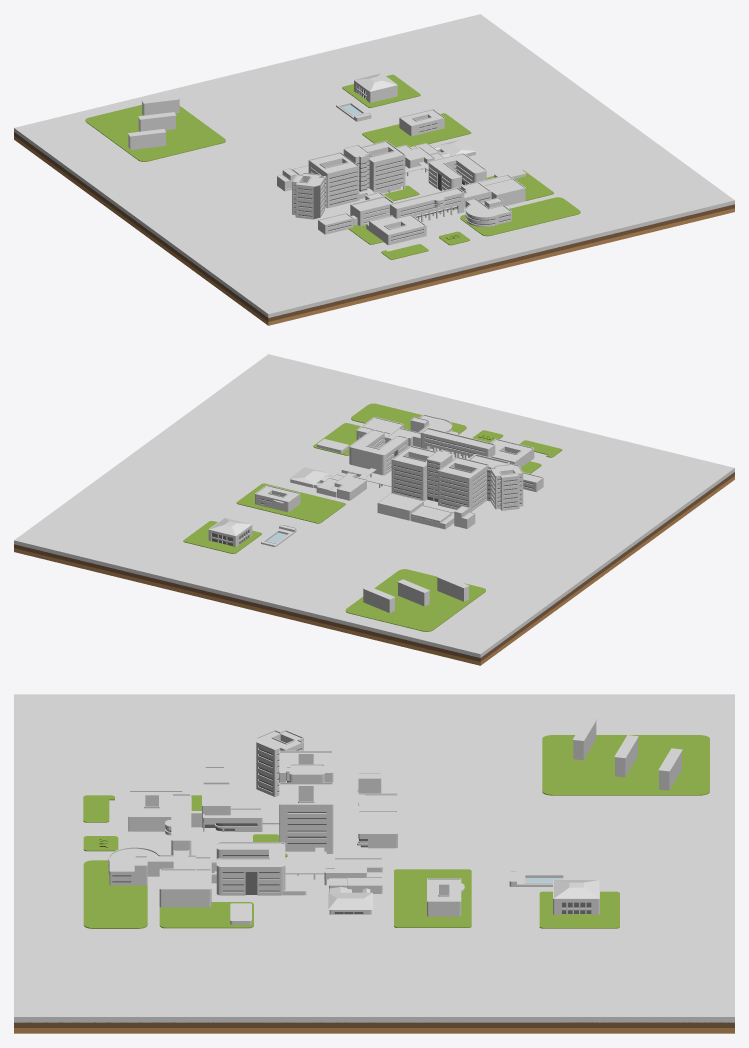
Rendered from kyutech_map.glb.
The picture shows the model from 3 angles, top to bottom: view 1: azimuth 30°, elevation 25°; view 2: azimuth 150°, elevation 25°; view 3: azimuth 270°, elevation 25°; orthographic projection. The views are drawn at different scales.
Visible parts, largest first — view 1: 地面上, 平面.013, 地面下, 地面中, 立方体.033, 平面.011, 立方体.081, 立方体.008, 平面.016, 立方体.035, 立方体.005, 立方体.004 (+13 smaller); view 2: 地面上, 平面.013, 地面下, 地面中, 立方体.033, 立方体.081, 立方体.008, 平面.016, 立方体.035, 立方体.005, 平面.011, 立方体.043 (+13 smaller); view 3: 地面上, 平面.013, 地面中, 地面下, 立方体.008, 立方体.081, 平面.011, 平面.016, 立方体.007, 円, 平面.018, 立方体.035 (+21 smaller).
Part boxes in pixels (bbox=[...]): 地面上: bbox=[14, 14, 734, 317]; 平面.013: bbox=[85, 104, 225, 161]; 地面下: bbox=[14, 136, 734, 325]; 地面中: bbox=[14, 132, 734, 321]; 立方体.033: bbox=[308, 152, 359, 208]; 平面.011: bbox=[460, 197, 580, 236]; 立方体.081: bbox=[361, 140, 405, 193]; 立方体.008: bbox=[428, 153, 486, 190]; 平面.016: bbox=[362, 113, 471, 147]; 立方体.035: bbox=[292, 172, 324, 219]; 立方体.005: bbox=[390, 187, 464, 218]; 立方体.004: bbox=[366, 214, 426, 245]; 地面上: bbox=[14, 354, 734, 657]; 平面.013: bbox=[345, 569, 485, 631]; 地面下: bbox=[14, 476, 734, 665]; 地面中: bbox=[14, 472, 734, 661]; 立方体.033: bbox=[438, 457, 488, 512]; 立方体.081: bbox=[391, 445, 435, 501]; 立方体.008: bbox=[349, 429, 407, 475]; 平面.016: bbox=[236, 483, 345, 523]; 立方体.035: bbox=[491, 463, 523, 510]; 立方体.005: bbox=[420, 427, 495, 457]; 平面.011: bbox=[351, 403, 466, 434]; 立方体.043: bbox=[255, 485, 300, 512]; 地面上: bbox=[14, 694, 734, 1022]; 平面.013: bbox=[542, 735, 709, 795]; 地面中: bbox=[14, 1022, 734, 1027]; 地面下: bbox=[14, 1028, 734, 1033]; 立方体.008: bbox=[216, 842, 285, 895]; 立方体.081: bbox=[279, 782, 333, 853]; 平面.011: bbox=[83, 860, 147, 928]; 平面.016: bbox=[394, 869, 471, 927]; 立方体.007: bbox=[159, 868, 211, 907]; 円: bbox=[108, 847, 173, 885]; 平面.018: bbox=[539, 891, 619, 928]; 立方体.035: bbox=[256, 730, 303, 796].
Size of the model in its own units: 450 by 48.16 by 425.
